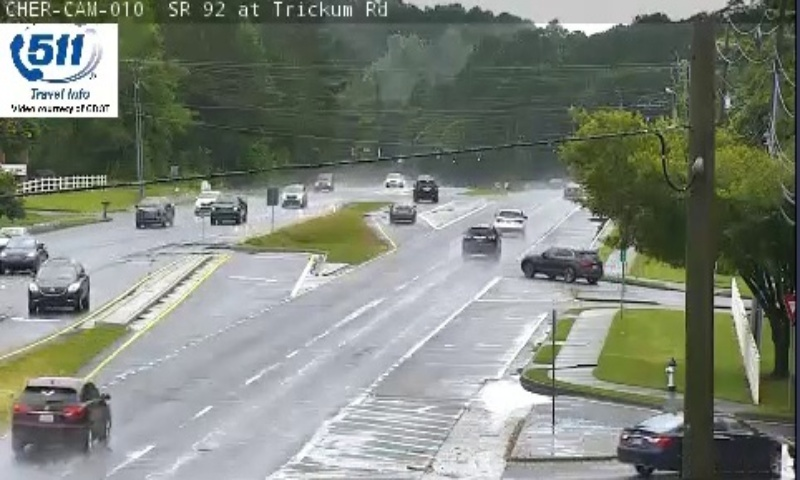car: (11, 377, 111, 443), (463, 225, 499, 256), (491, 209, 524, 234), (388, 202, 416, 221)
